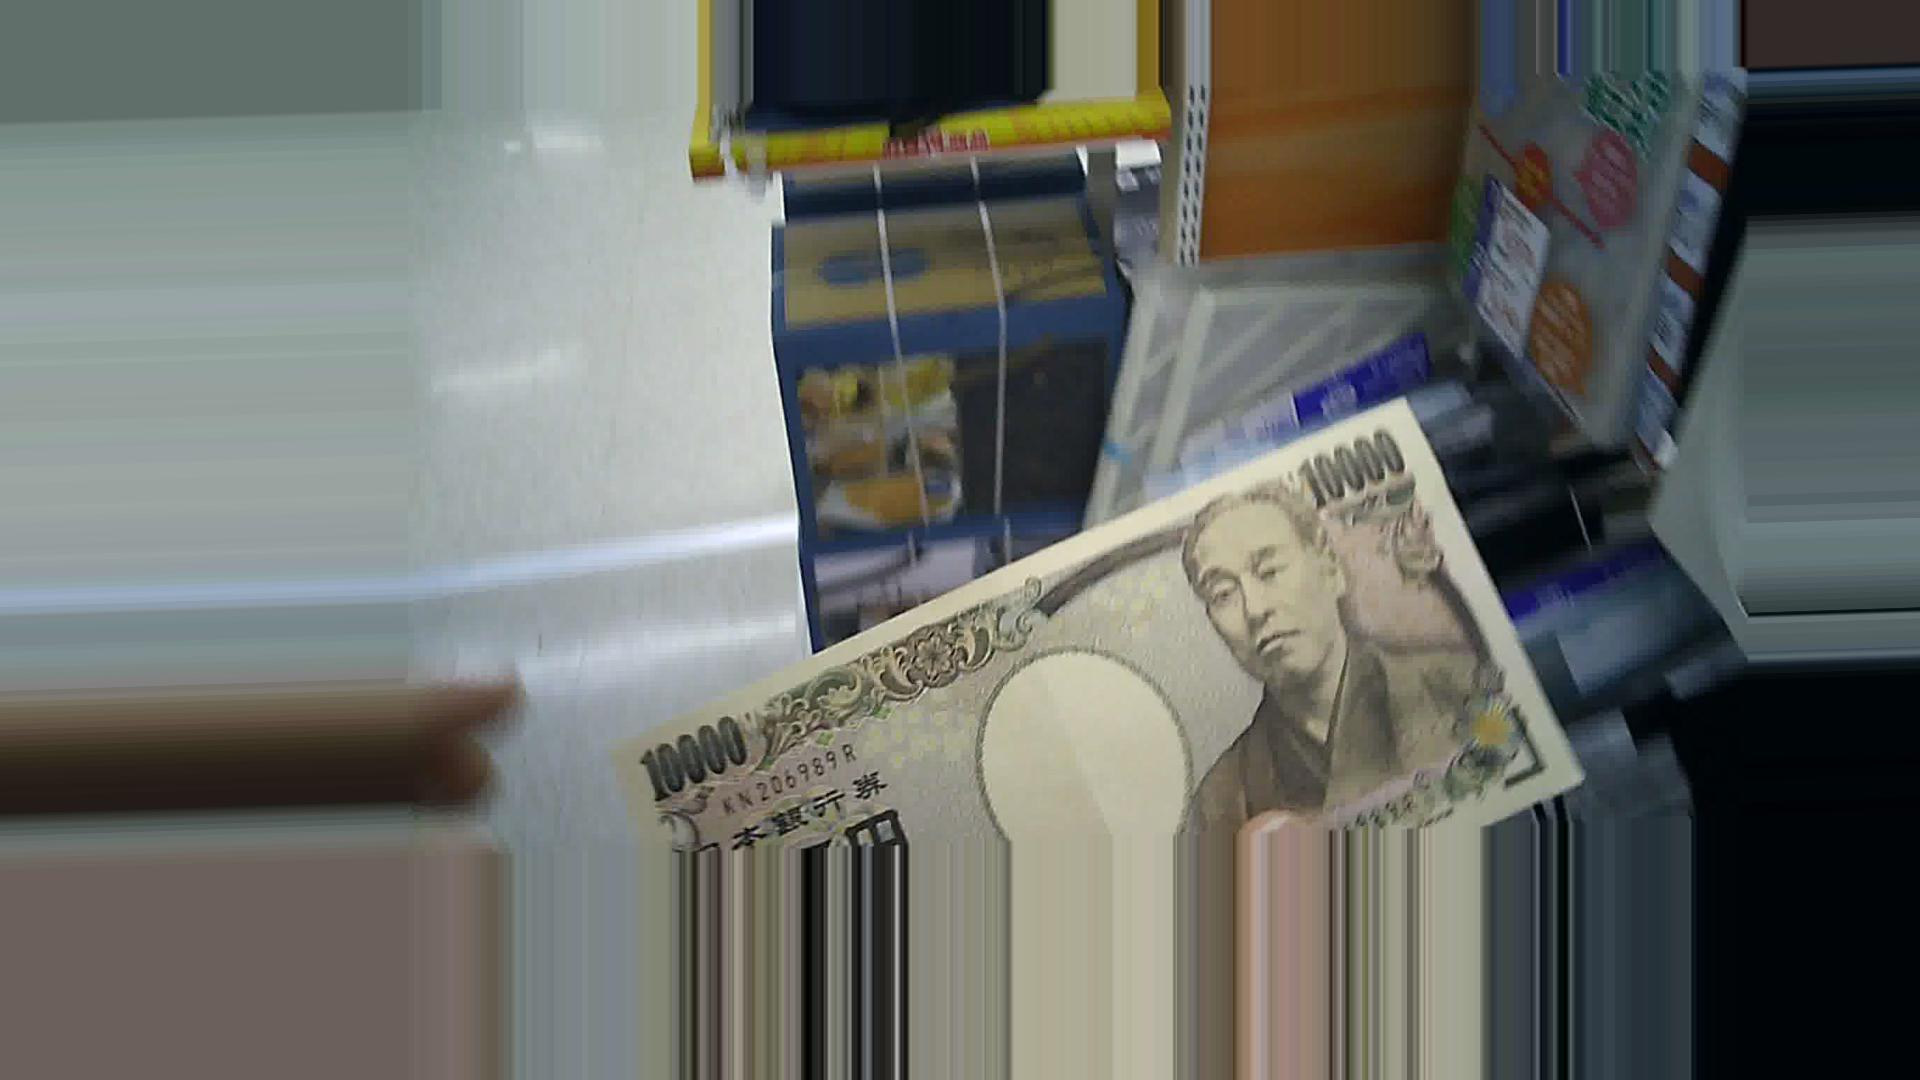10,000 Yen: (592, 397, 1567, 869)
